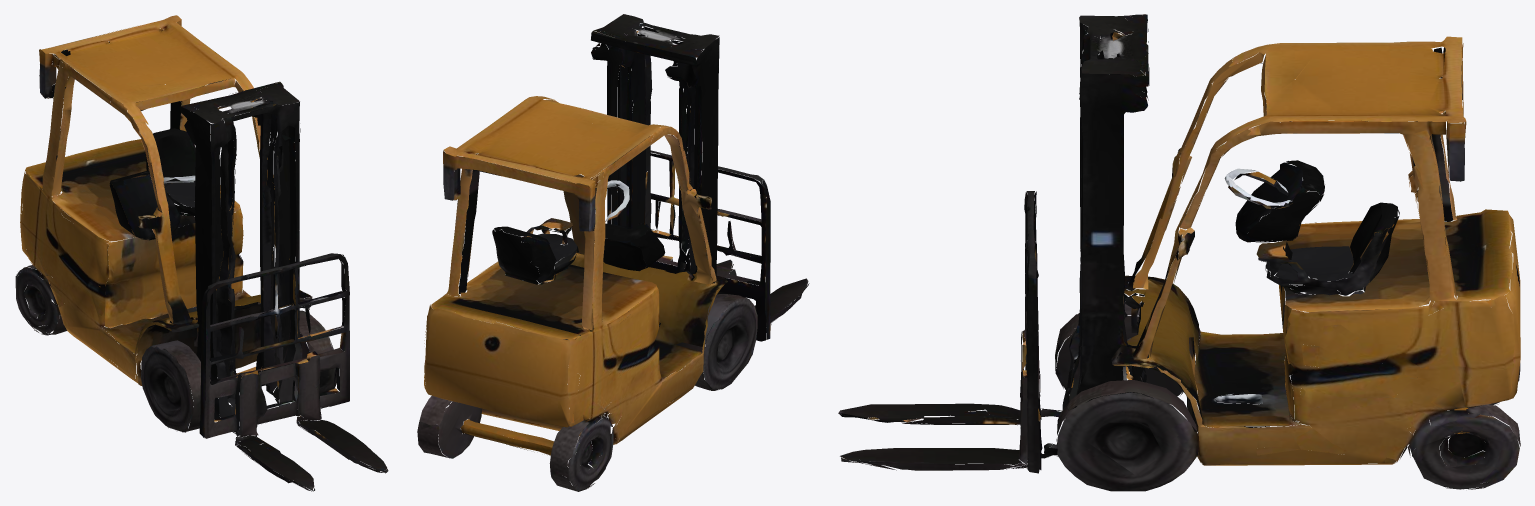
The model's file is forklift.glb.
3 views of the same model, side by side, from view 1: azimuth 30°, elevation 25°; view 2: azimuth 150°, elevation 25°; view 3: azimuth 270°, elevation 25° (orthographic). The views are drawn at different scales.
Parts seen in each view (by area): view 1: forklift; view 2: forklift; view 3: forklift.
Boxes of the visible parts, bbox=[...] form: forklift: bbox=[15, 15, 388, 491]; forklift: bbox=[417, 14, 809, 491]; forklift: bbox=[838, 14, 1520, 491].
Bounding box in the file's own units: 1.12 × 2.15 × 3.3.
1 material, 1 textured.
